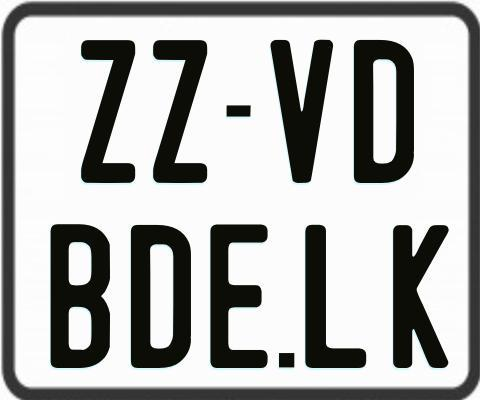B: (49, 221, 113, 367)
D: (354, 40, 420, 186), (130, 222, 190, 370)
E: (208, 222, 272, 368)
K: (393, 224, 454, 370)
L: (303, 223, 365, 366)
V: (271, 39, 334, 185)
Z: (78, 40, 135, 189), (151, 38, 205, 185)
